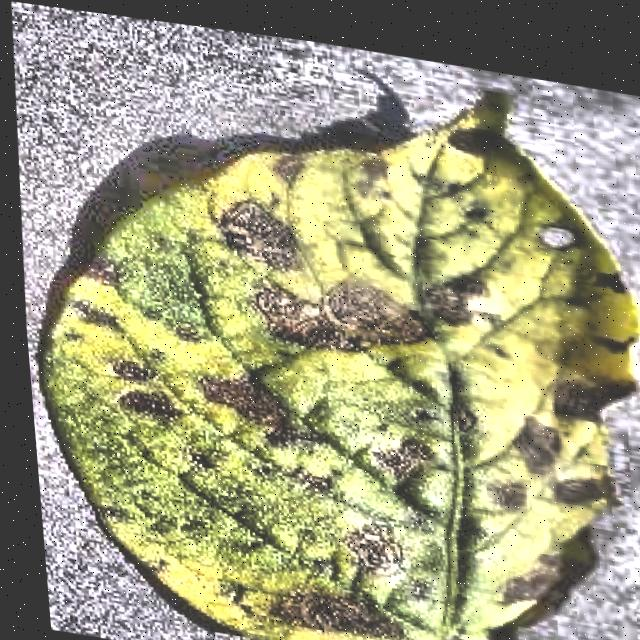Potato_leaf_early_blight: (42, 91, 634, 640)
